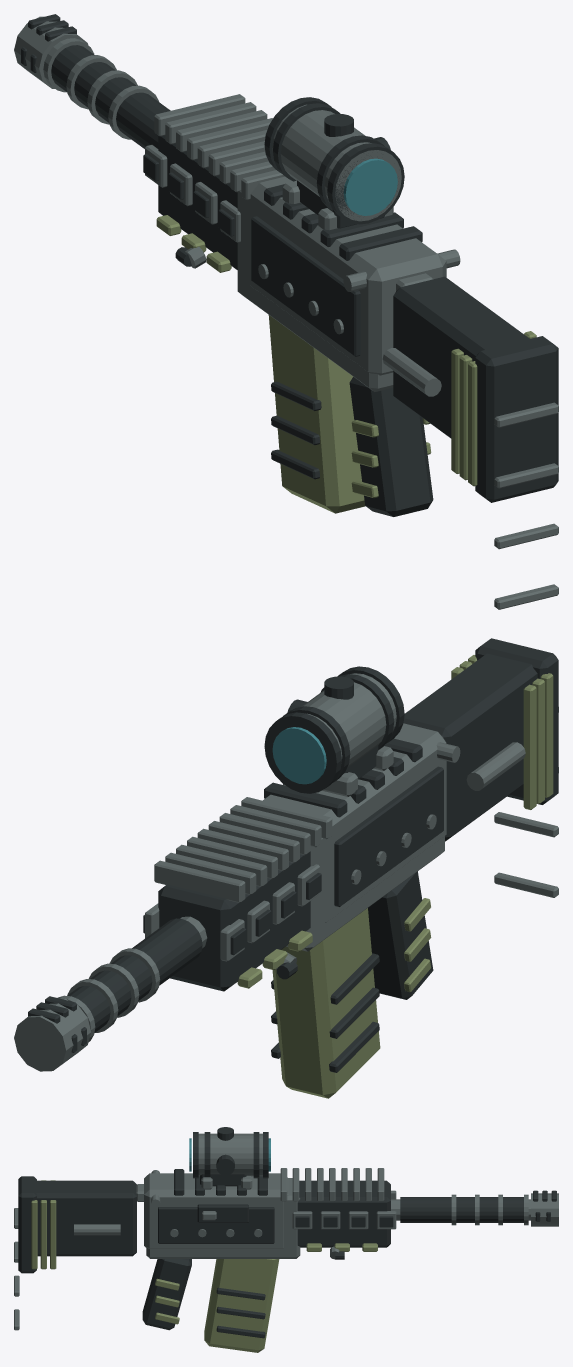
The model's file is rifle_viewmodel.glb.
3 views of the same model, one above another, from view 1: azimuth 30°, elevation 25°; view 2: azimuth 150°, elevation 25°; view 3: azimuth 270°, elevation 25° (orthographic). The views are drawn at different scales.
Parts seen in each view (by area): view 1: rifle_viewmodel; view 2: rifle_viewmodel; view 3: rifle_viewmodel.
Boxes of the visible parts, x1,y1,x2,y2 form: rifle_viewmodel: [14, 14, 558, 609]; rifle_viewmodel: [14, 638, 558, 1098]; rifle_viewmodel: [14, 1127, 558, 1352].
Bounding box in the file's own units: 0.126 × 0.4117 × 0.9352.
